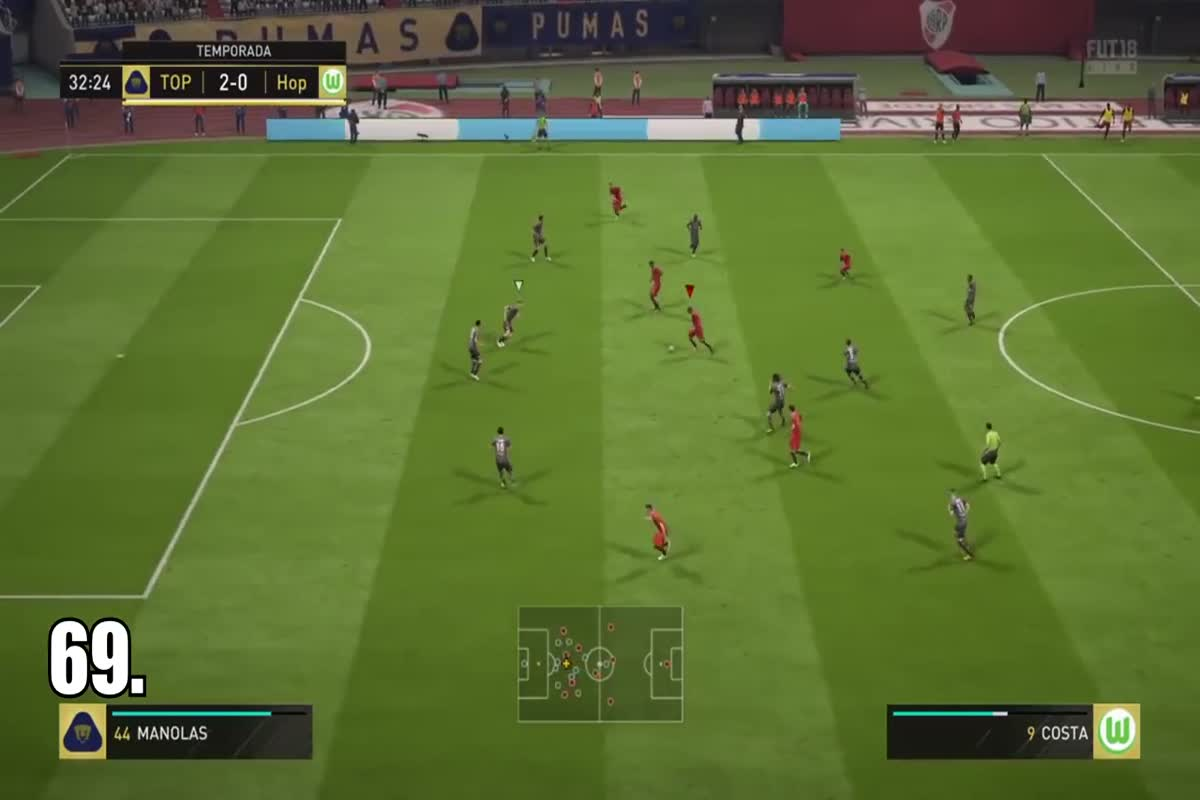ball: (660, 340, 688, 357)
